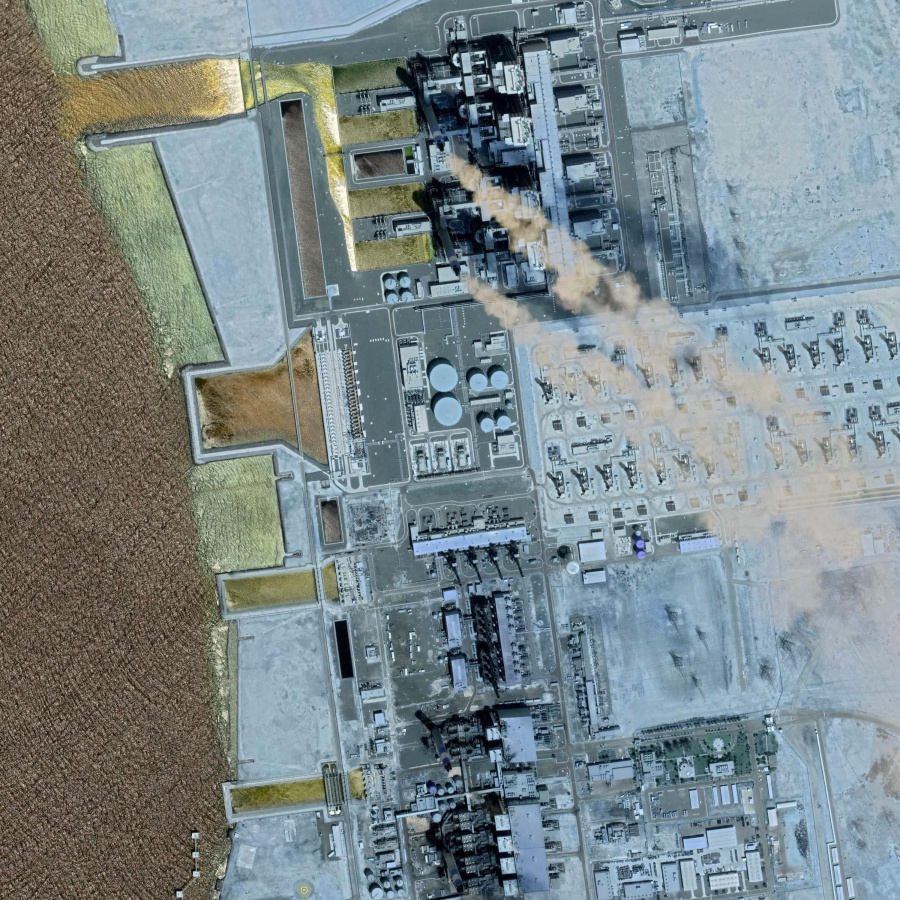PowerPlant: (317, 20, 760, 428), (362, 582, 584, 898)
